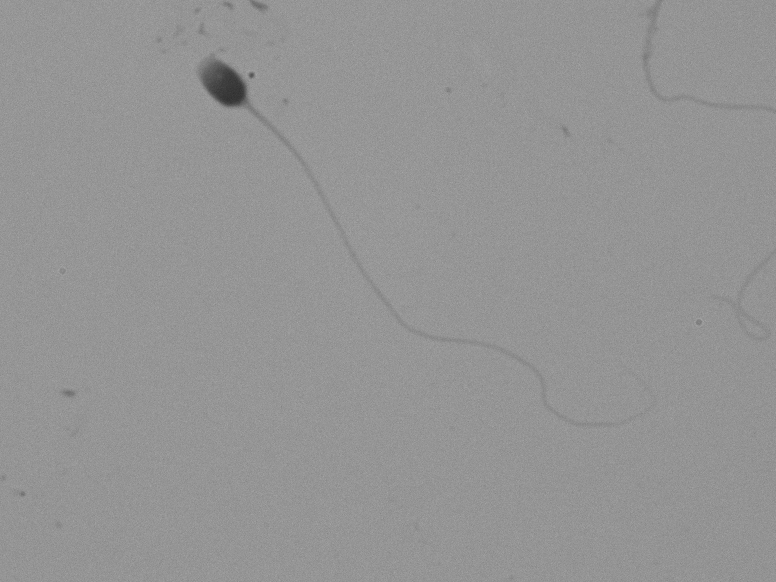Normal: (162, 41, 654, 496)
